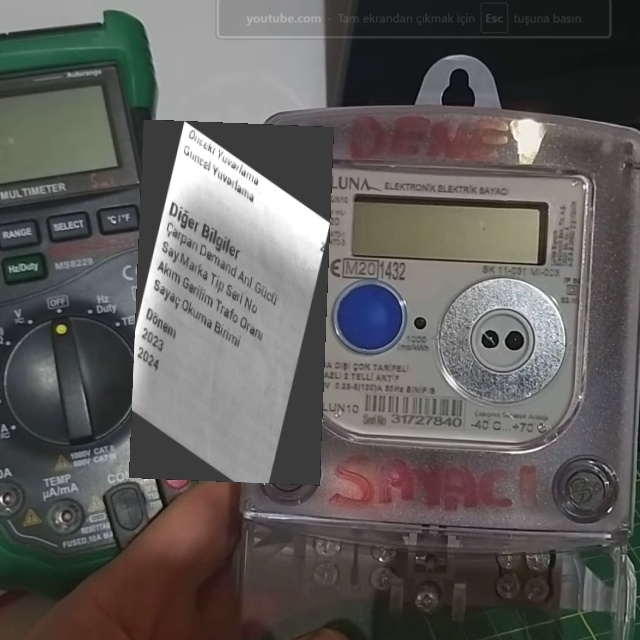electricity-bill: (129, 118, 334, 486)
